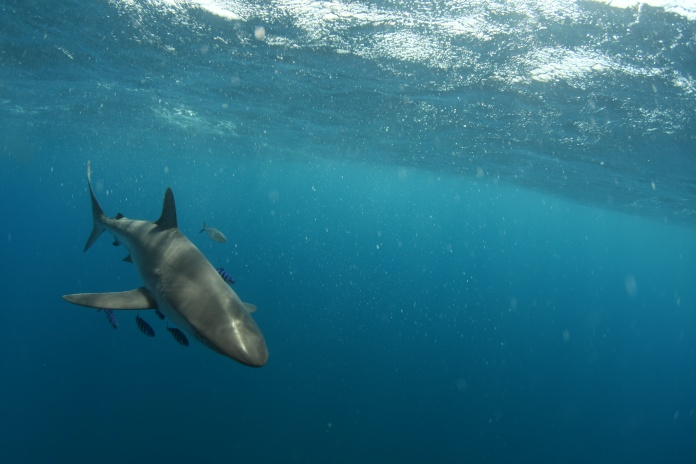Sedoso: (52, 160, 275, 368)
